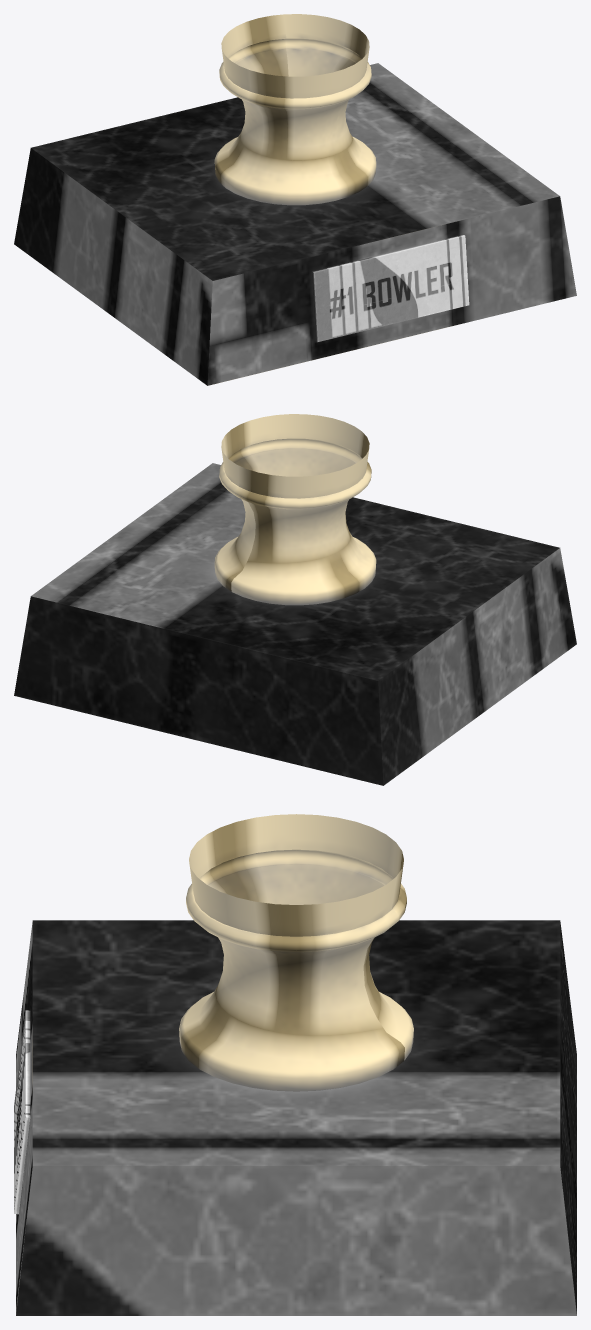
The model's file is SM_TrophyForBall.fbx.
3 views of the same model, one above another, from view 1: azimuth 30°, elevation 25°; view 2: azimuth 150°, elevation 25°; view 3: azimuth 270°, elevation 25° (orthographic). The views are drawn at different scales.
Parts seen in each view (by area): view 1: SM_TrophyForBall_LOD0; view 2: SM_TrophyForBall_LOD0; view 3: SM_TrophyForBall_LOD0.
Boxes of the visible parts, box(x1,y1,x2,y2) form: SM_TrophyForBall_LOD0: box(14, 14, 576, 385); SM_TrophyForBall_LOD0: box(14, 414, 576, 785); SM_TrophyForBall_LOD0: box(14, 814, 576, 1315).
Size of the model in its own units: 17.15 by 15.61 by 9.96.
1 material, 1 textured.
